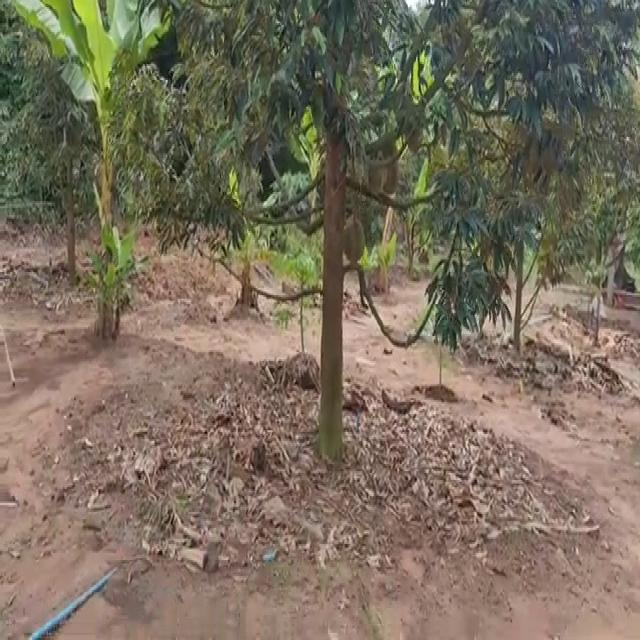durian: (377, 129, 402, 197), (342, 210, 366, 266), (364, 145, 388, 198)
